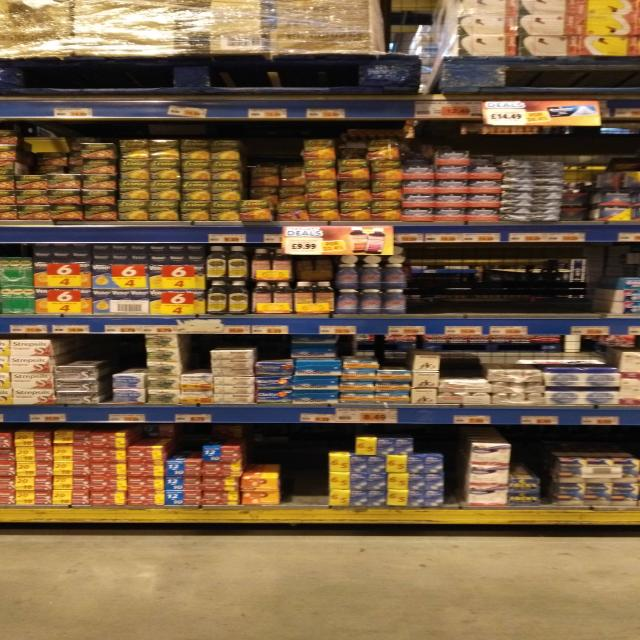void: (594, 241, 640, 347), (279, 430, 329, 512), (380, 51, 436, 124), (548, 244, 589, 343), (320, 54, 376, 124), (501, 243, 540, 341), (589, 58, 636, 135), (56, 54, 106, 126), (212, 55, 262, 127), (266, 56, 316, 127), (462, 244, 497, 344), (0, 57, 51, 124), (159, 58, 208, 125), (105, 57, 155, 121), (440, 59, 490, 123), (422, 252, 460, 334), (541, 59, 584, 130), (495, 61, 534, 125)
